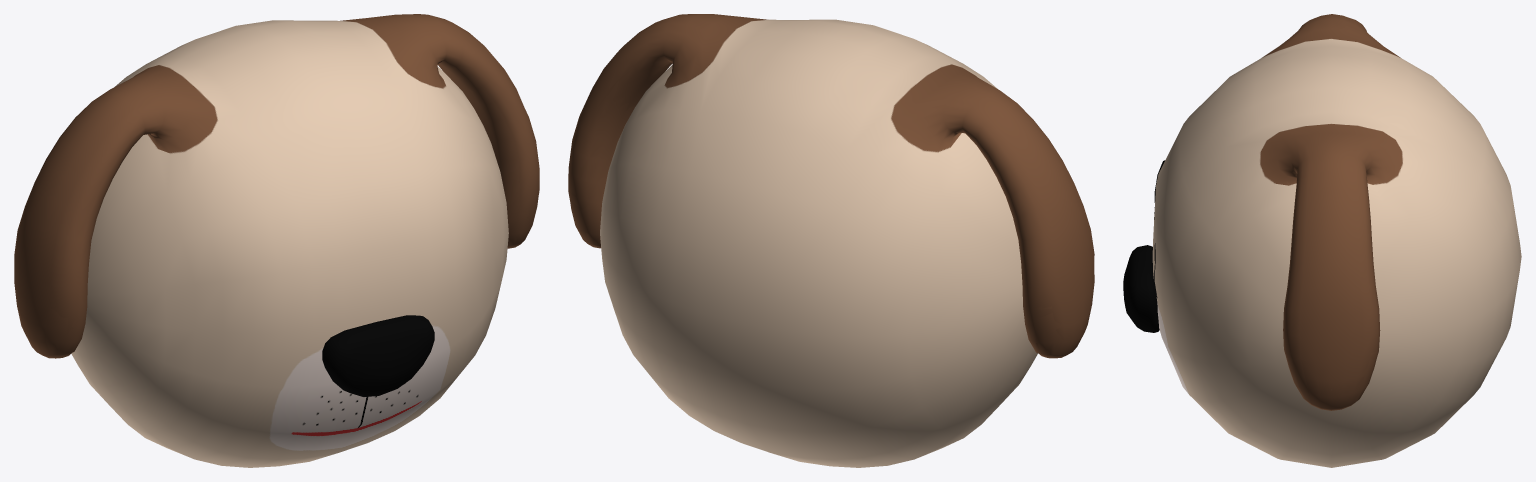
The model's file is Dog Glb.glb.
The picture shows the model from 3 angles, left to right: view 1: azimuth 30°, elevation 25°; view 2: azimuth 150°, elevation 25°; view 3: azimuth 270°, elevation 25°; orthographic projection. The views are drawn at different scales.
Parts seen in each view (by area): view 1: Dog; view 2: Dog; view 3: Dog.
Boxes of the visible parts, x1,y1,x2,y2 form: Dog: [14, 14, 539, 467]; Dog: [568, 14, 1094, 467]; Dog: [1123, 14, 1521, 467].
Bounding box in the file's own units: 0.00751 × 0.00586 × 0.00563.
Materials: 2 (2 with a texture image).
